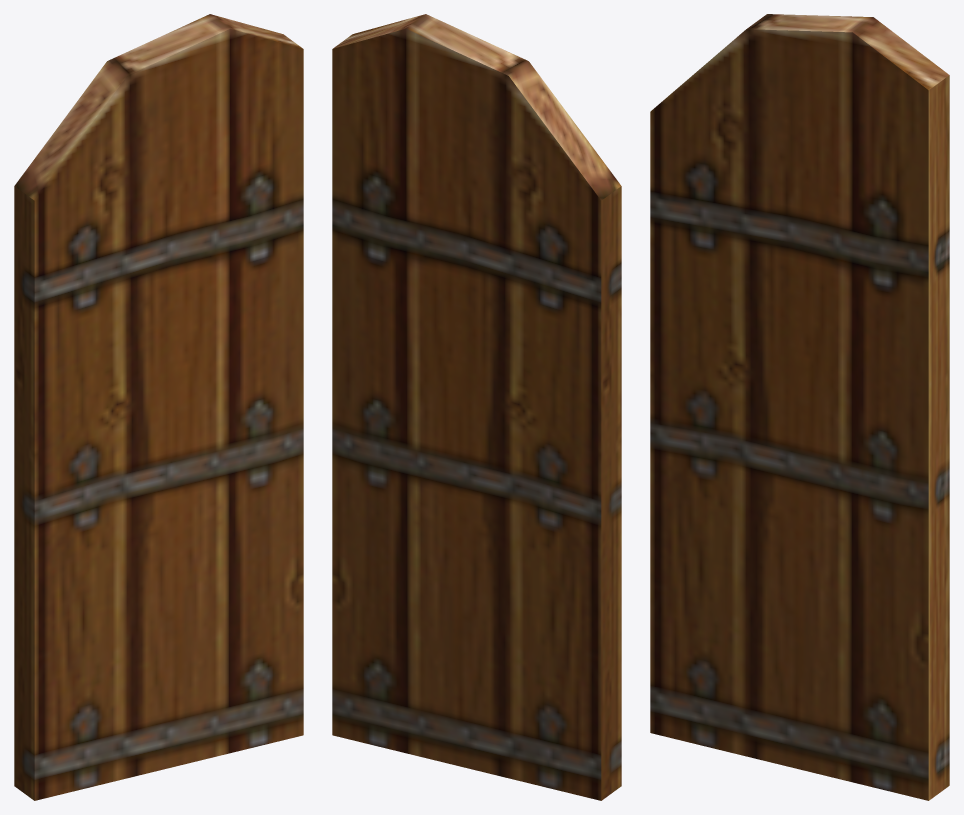
File: Meng01.FBX
3 views of the same model, side by side, from view 1: azimuth 30°, elevation 25°; view 2: azimuth 150°, elevation 25°; view 3: azimuth 330°, elevation 25° (orthographic). The views are drawn at different scales.
Visible parts, largest first — view 1: meng; view 2: meng; view 3: meng.
Boxes of the visible parts, <box> form: meng: <box>14,14,303,800</box>; meng: <box>332,14,621,800</box>; meng: <box>650,14,949,800</box>.
Size of the model in its own units: 60.91 by 157 by 7.92.
